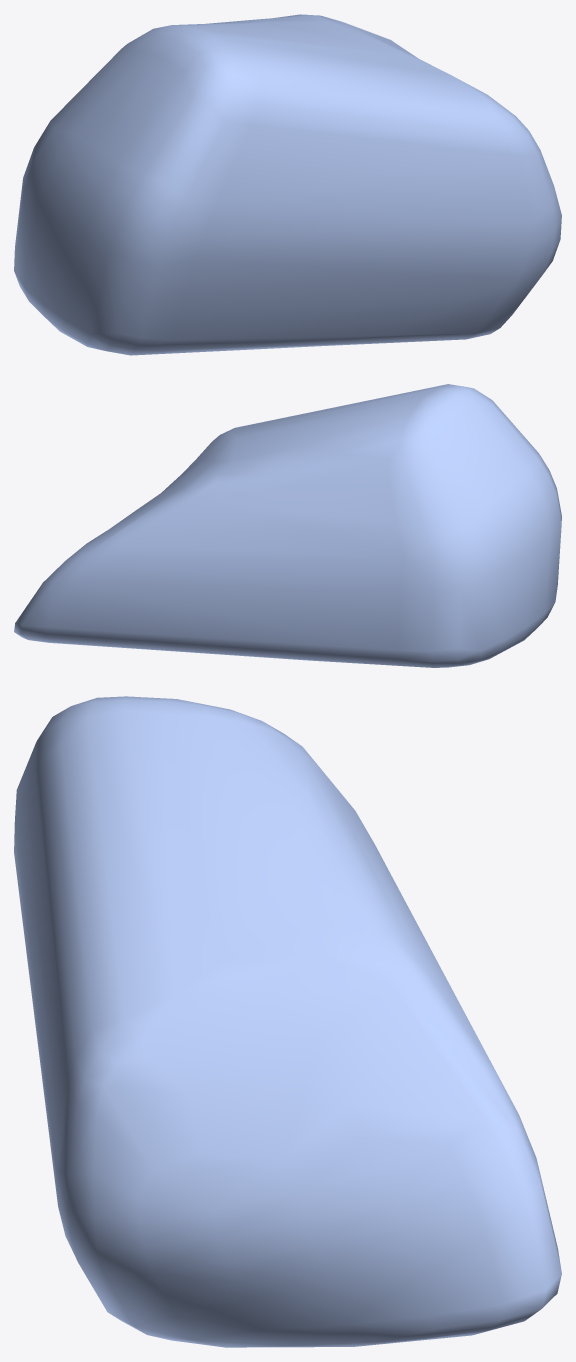
The model's file is Stone 3.fbx.
3 renders of one model, top to bottom at view 1: azimuth 30°, elevation 25°; view 2: azimuth 150°, elevation 25°; view 3: azimuth 270°, elevation 25°, orthographic. The views are drawn at different scales.
Parts seen in each view (by area): view 1: Stone 3; view 2: Stone 3; view 3: Stone 3.
Part boxes in pixels (left/top/right/bottom): Stone 3: left=14, top=14, right=561, bottom=355; Stone 3: left=14, top=384, right=561, bottom=667; Stone 3: left=14, top=696, right=561, bottom=1347.
Size of the model in its own units: 187 by 121 by 132.
